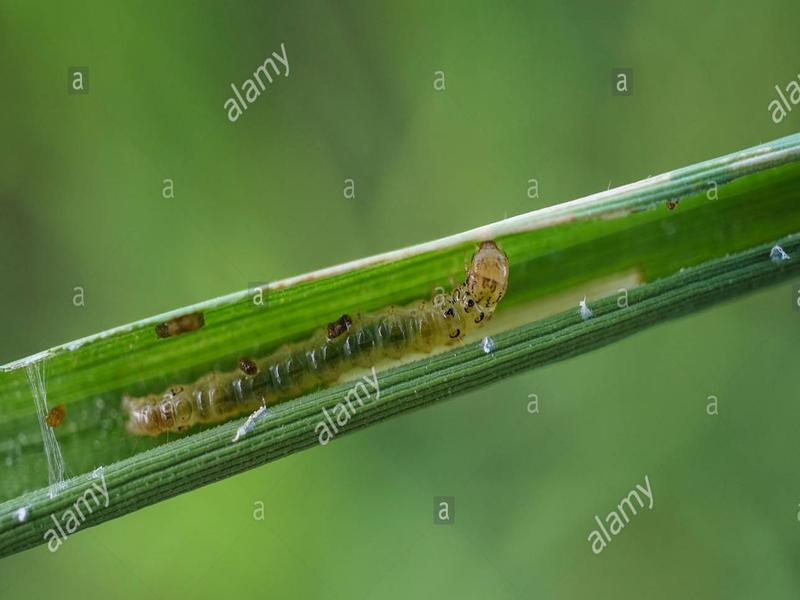Whorl_maggot: (92, 240, 513, 448)
